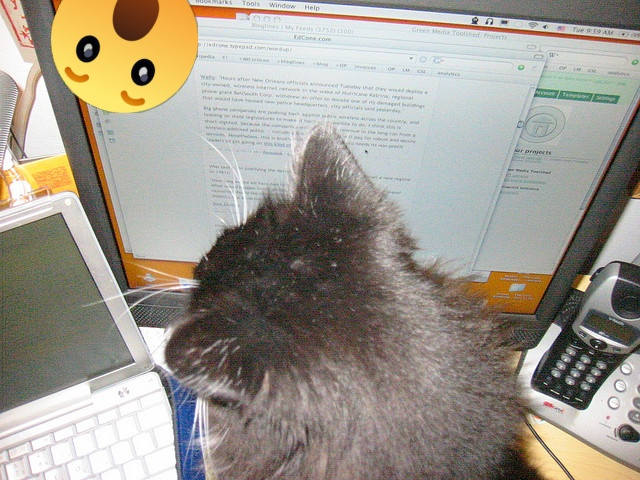wow: (51, 0, 198, 113)
